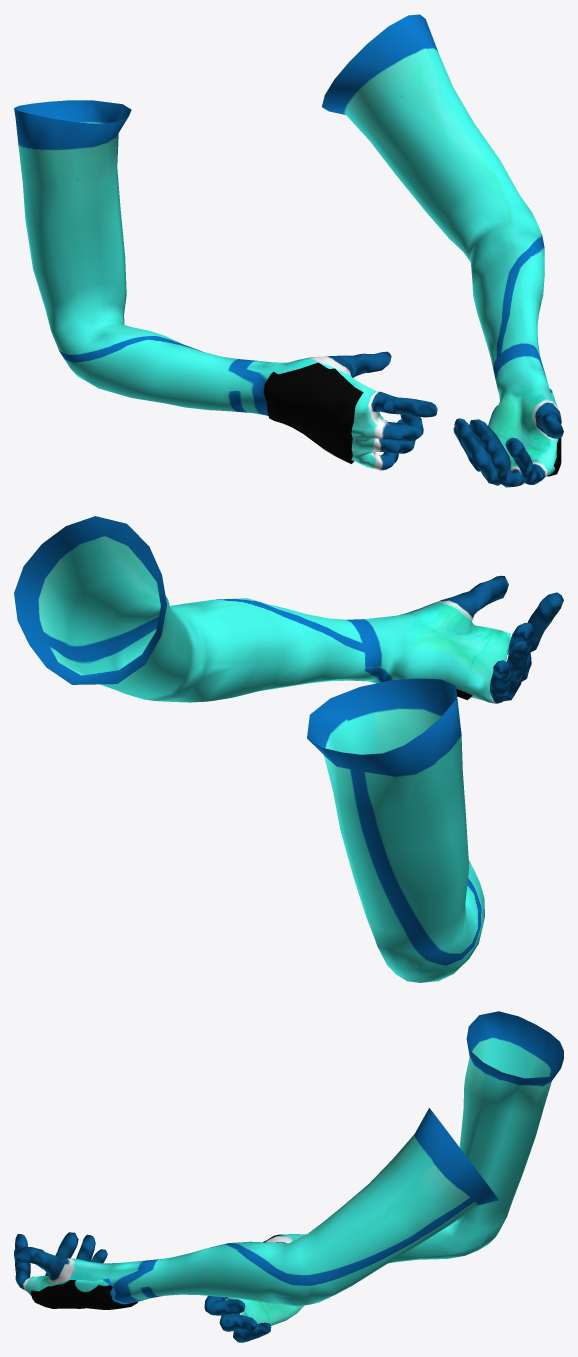
File: AEnemy.fbx
3 renders of one model, top to bottom at view 1: azimuth 30°, elevation 25°; view 2: azimuth 150°, elevation 25°; view 3: azimuth 270°, elevation 25°, orthographic. The views are drawn at different scales.
Visible parts, largest first — view 1: hands_all; view 2: hands_all; view 3: hands_all.
Boxes of the visible parts, left/top/right/bottom form: hands_all: left=14, top=14, right=563, bottom=487; hands_all: left=14, top=516, right=563, bottom=982; hands_all: left=14, top=1011, right=563, bottom=1342.
Size of the model in its own units: 48.18 by 39.34 by 69.01.
